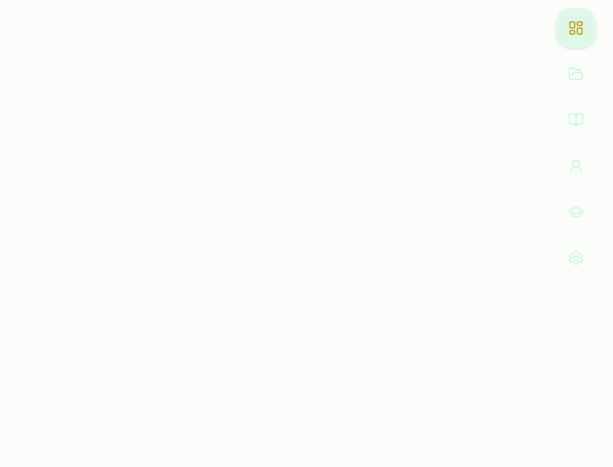
Test case: AdminSidebarTree › opens group flyout on icon hover in icons mode
Hover over the button named "Konten".
mouse_move(576, 74)  # box [556,54,596,94]
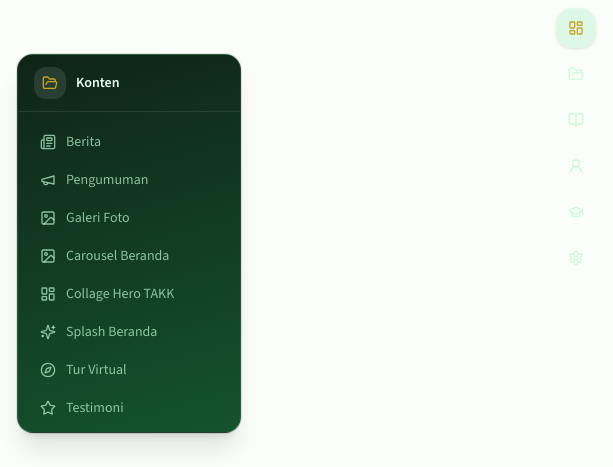
Check: the navigation bar named "Menu Konten" is shown, box [40,132,174,417]
Check: the link "Berita" is shown, box [40,132,101,151]
